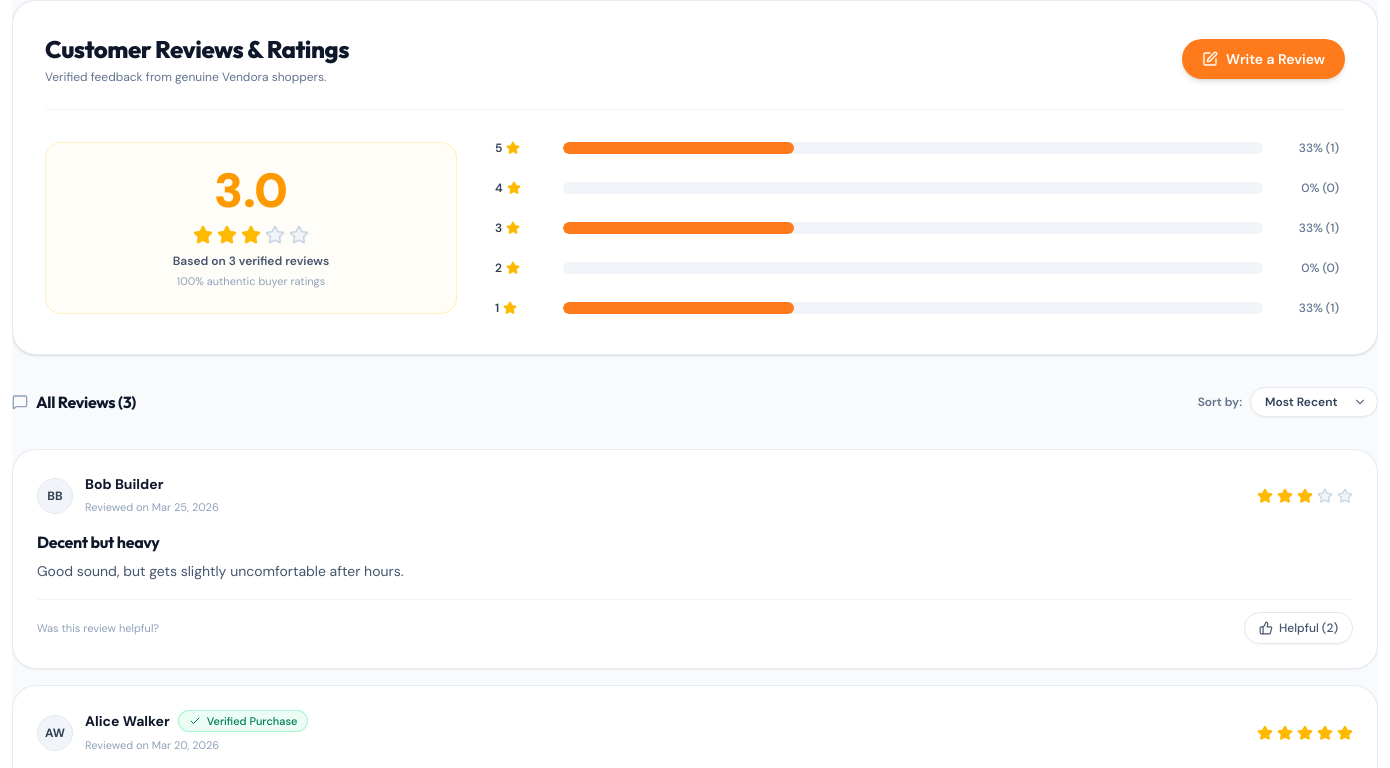
ReviewList component › filters reviews when clicking a star rating in breakdown
The image size is (1390, 768).
Expected: the heading "Decent but heavy" is shown, [37,532,160,552]
Click the button named "Filter by 5 star reviews". click: coordinates (917, 148)
box: [489,134,1345,162]
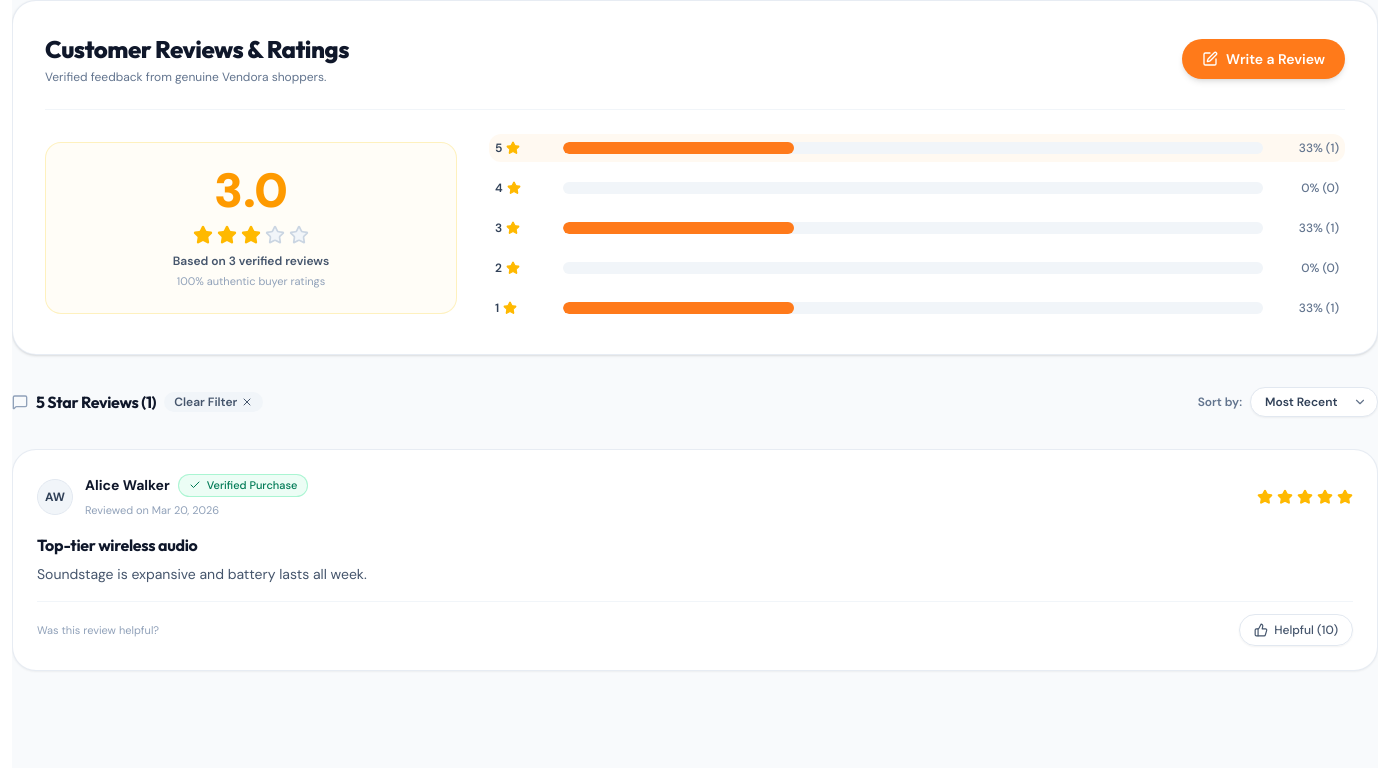
Expected: the heading "Top-tier wireless audio" is shown, [37,534,197,554]
Expected: the heading "Decent but heavy" is gone
// Clear filter
Click the button "Clear Filter". click: coordinates (214, 402)
box: [164,392,263,412]
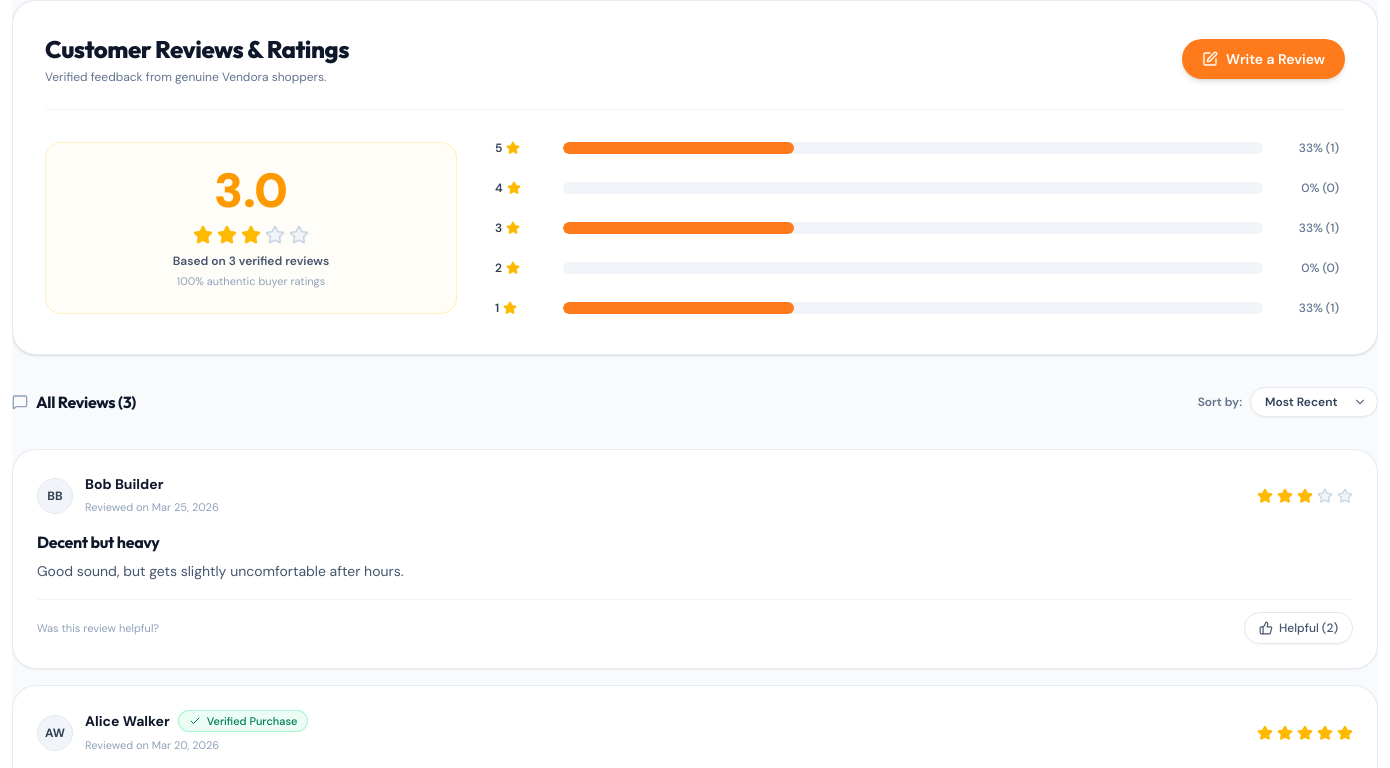
Expected: the heading "Decent but heavy" is shown, [37,532,160,552]
